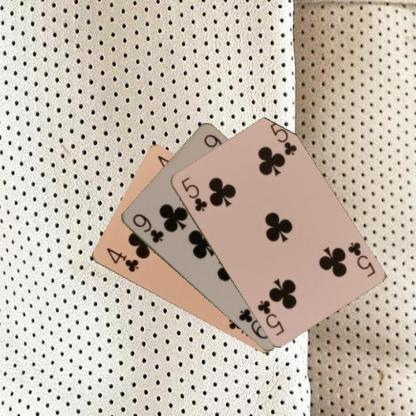4c: (103, 245, 140, 274)
5c: (344, 239, 376, 279), (178, 174, 209, 213)
9c: (130, 211, 165, 244)
